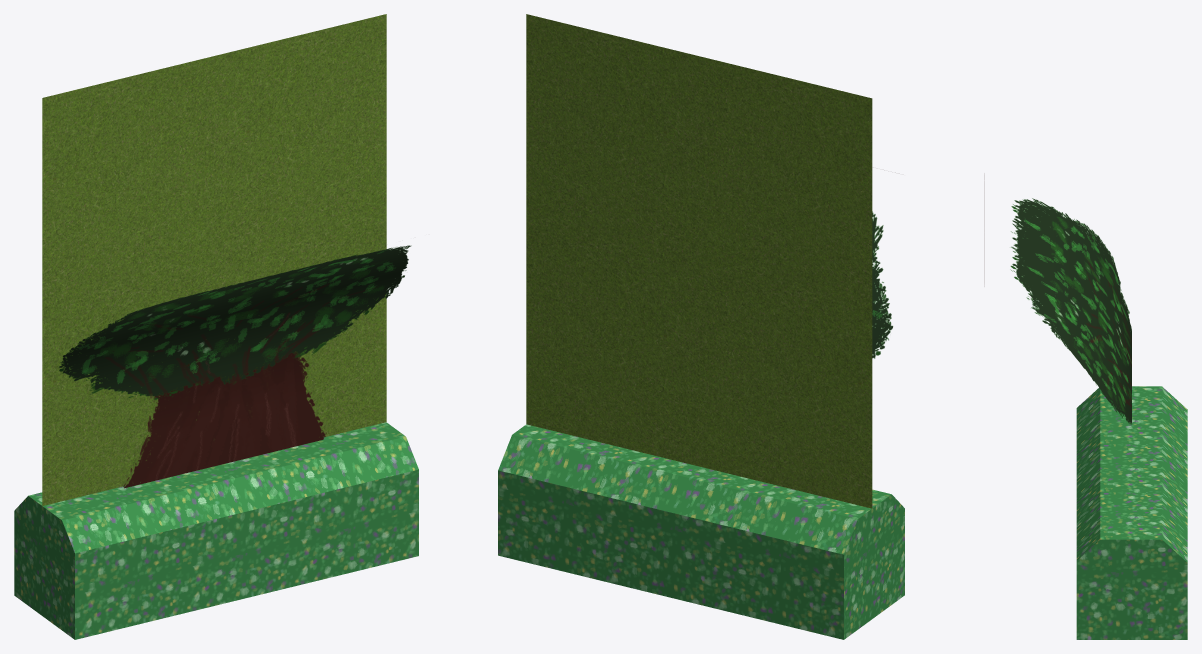
File: walltree0.glb
The picture shows the model from 3 angles, left to right: view 1: azimuth 30°, elevation 25°; view 2: azimuth 150°, elevation 25°; view 3: azimuth 270°, elevation 25°; orthographic projection. The views are drawn at different scales.
Visible parts, largest first — view 1: ForestWall, Hedge, Tree; view 2: ForestWall, Hedge, Tree; view 3: Hedge, Tree.
Part boxes in pixels (x1,y1,x2,y2): ForestWall: (42,14,386,505); Hedge: (14,422,418,639); Tree: (59,245,411,488); ForestWall: (526,14,872,508); Hedge: (498,424,904,639); Tree: (872,211,893,358); Hedge: (1076,386,1187,639); Tree: (1010,198,1131,424).
Bounding box in the file's own units: 6.55 × 9.42 × 3.67.
3 materials, 3 textured.
